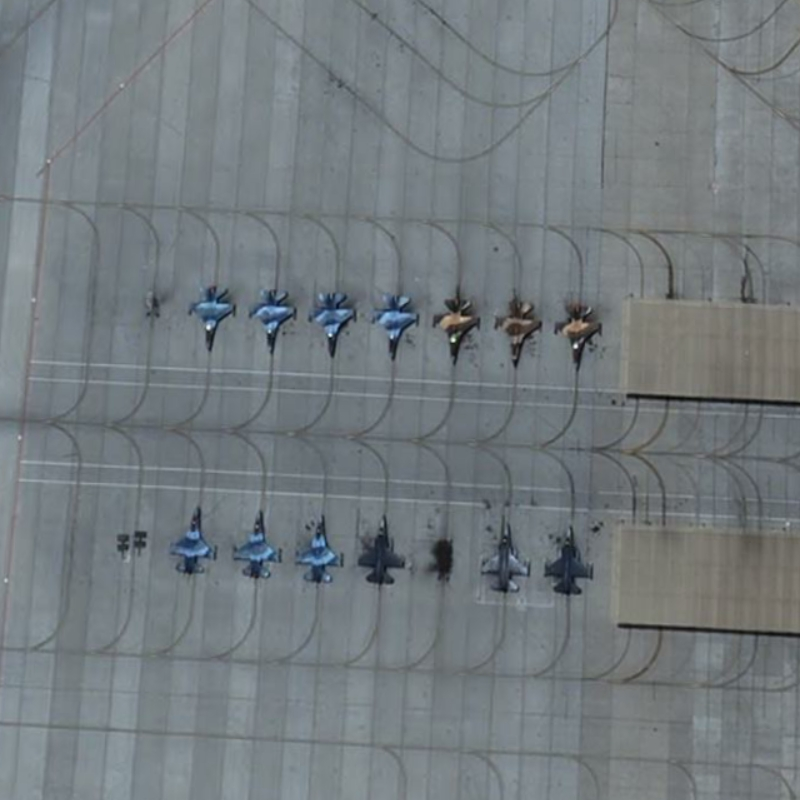A5: (163, 496, 226, 583), (473, 511, 534, 600), (426, 285, 487, 369), (227, 503, 287, 588), (551, 296, 613, 378), (491, 284, 545, 374), (541, 518, 600, 600), (288, 508, 347, 589), (352, 509, 411, 590), (243, 278, 300, 361), (369, 285, 421, 367), (307, 282, 359, 362), (188, 283, 239, 358)
